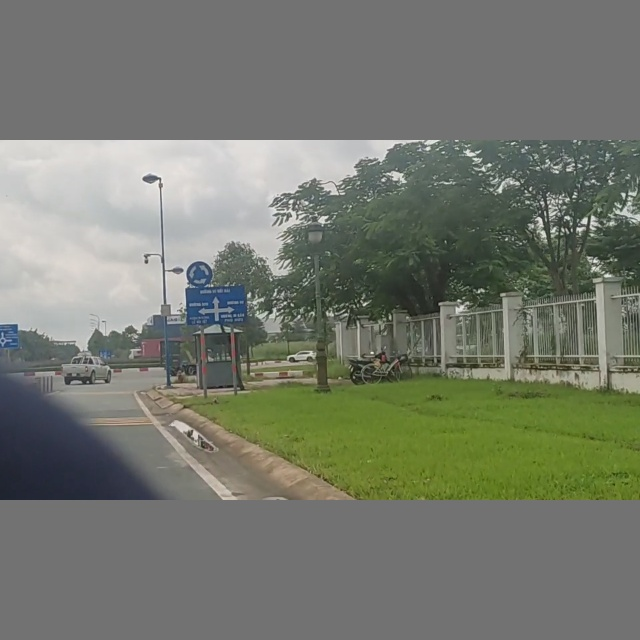R.303: (185, 259, 215, 288)
